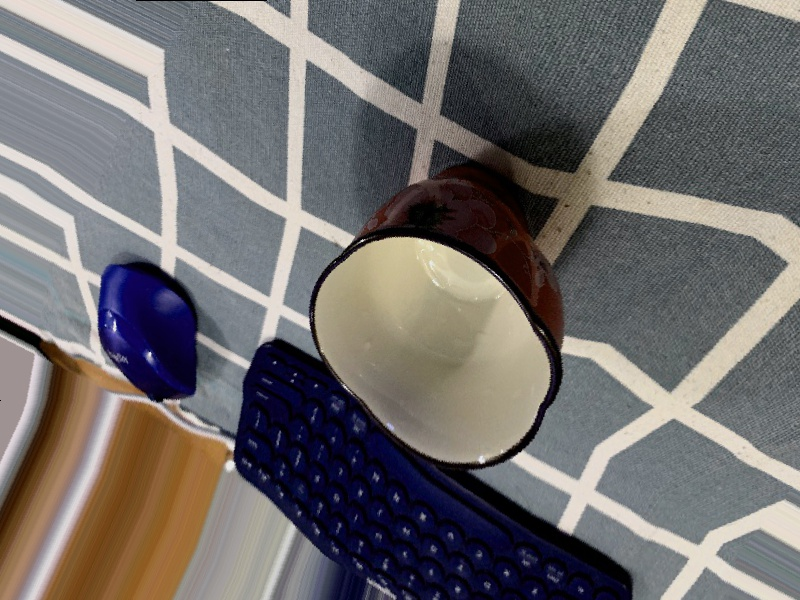bowl_small: (255, 94, 660, 544)
